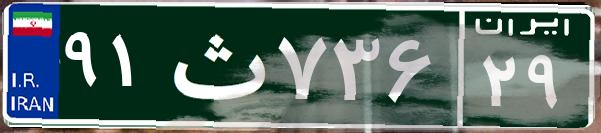1: (110, 28, 158, 105)
2: (475, 38, 525, 113)
3: (330, 28, 385, 110)
6: (385, 28, 445, 110)
7: (273, 28, 330, 110)
9: (57, 26, 110, 107), (525, 38, 570, 115)
ث: (158, 15, 273, 115)
